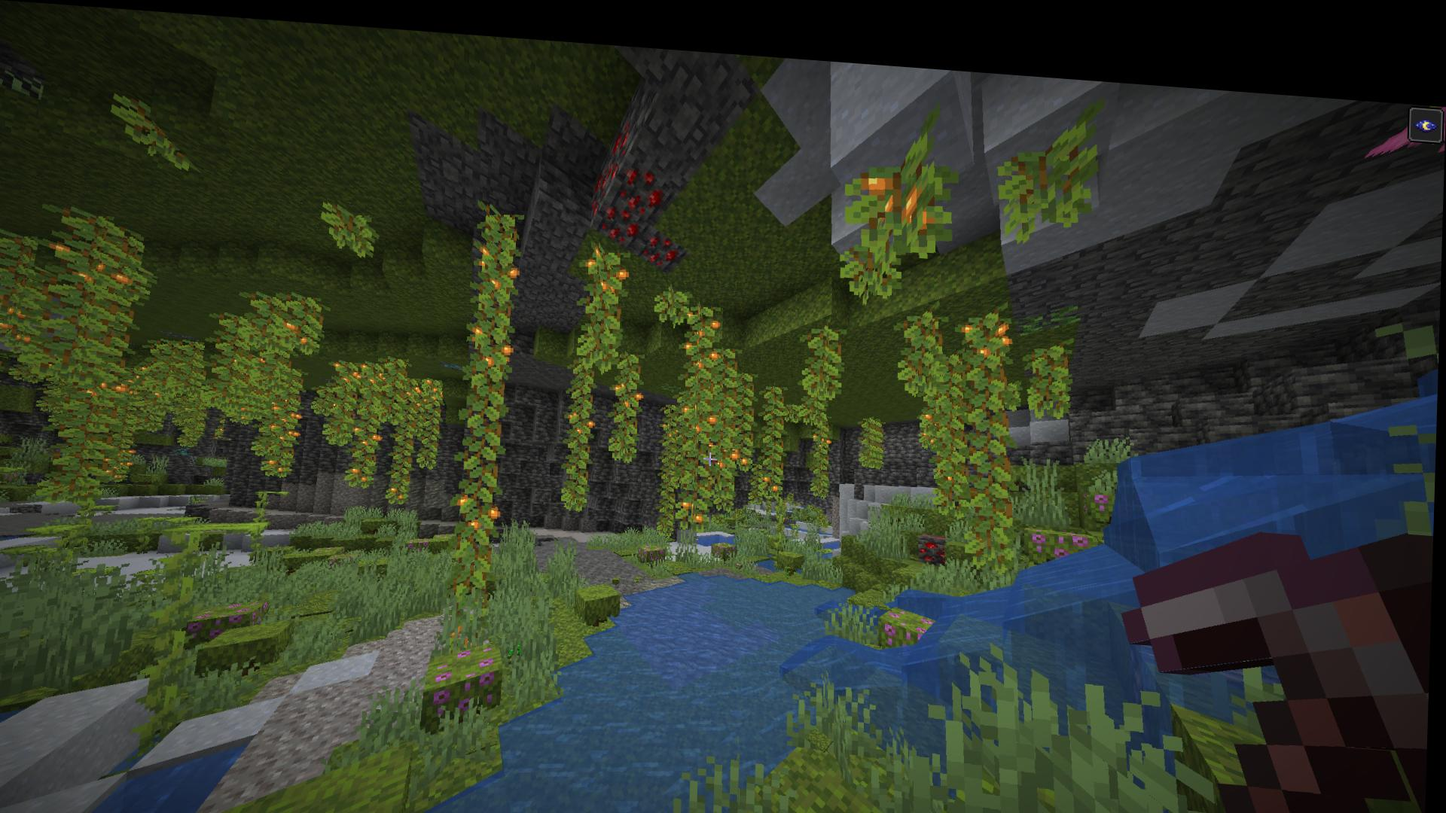redstone ore: (587, 111, 688, 258), (921, 519, 949, 549)
